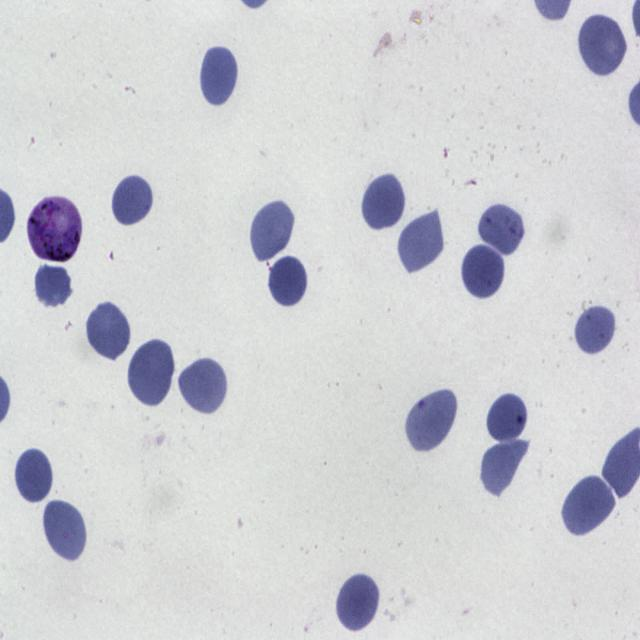red blood cell: (576, 10, 629, 80), (560, 472, 616, 538), (127, 336, 176, 410), (405, 386, 459, 453), (248, 197, 296, 266), (41, 496, 88, 566), (396, 208, 446, 273), (176, 355, 228, 417), (334, 570, 382, 635), (85, 298, 132, 362), (481, 440, 529, 502), (475, 200, 527, 257), (360, 170, 407, 233), (460, 242, 507, 303), (569, 304, 621, 358), (200, 42, 240, 111), (110, 172, 156, 228), (486, 389, 530, 447), (14, 446, 54, 506), (267, 253, 309, 310), (33, 260, 74, 310)
trophozoite: (29, 194, 82, 263)
